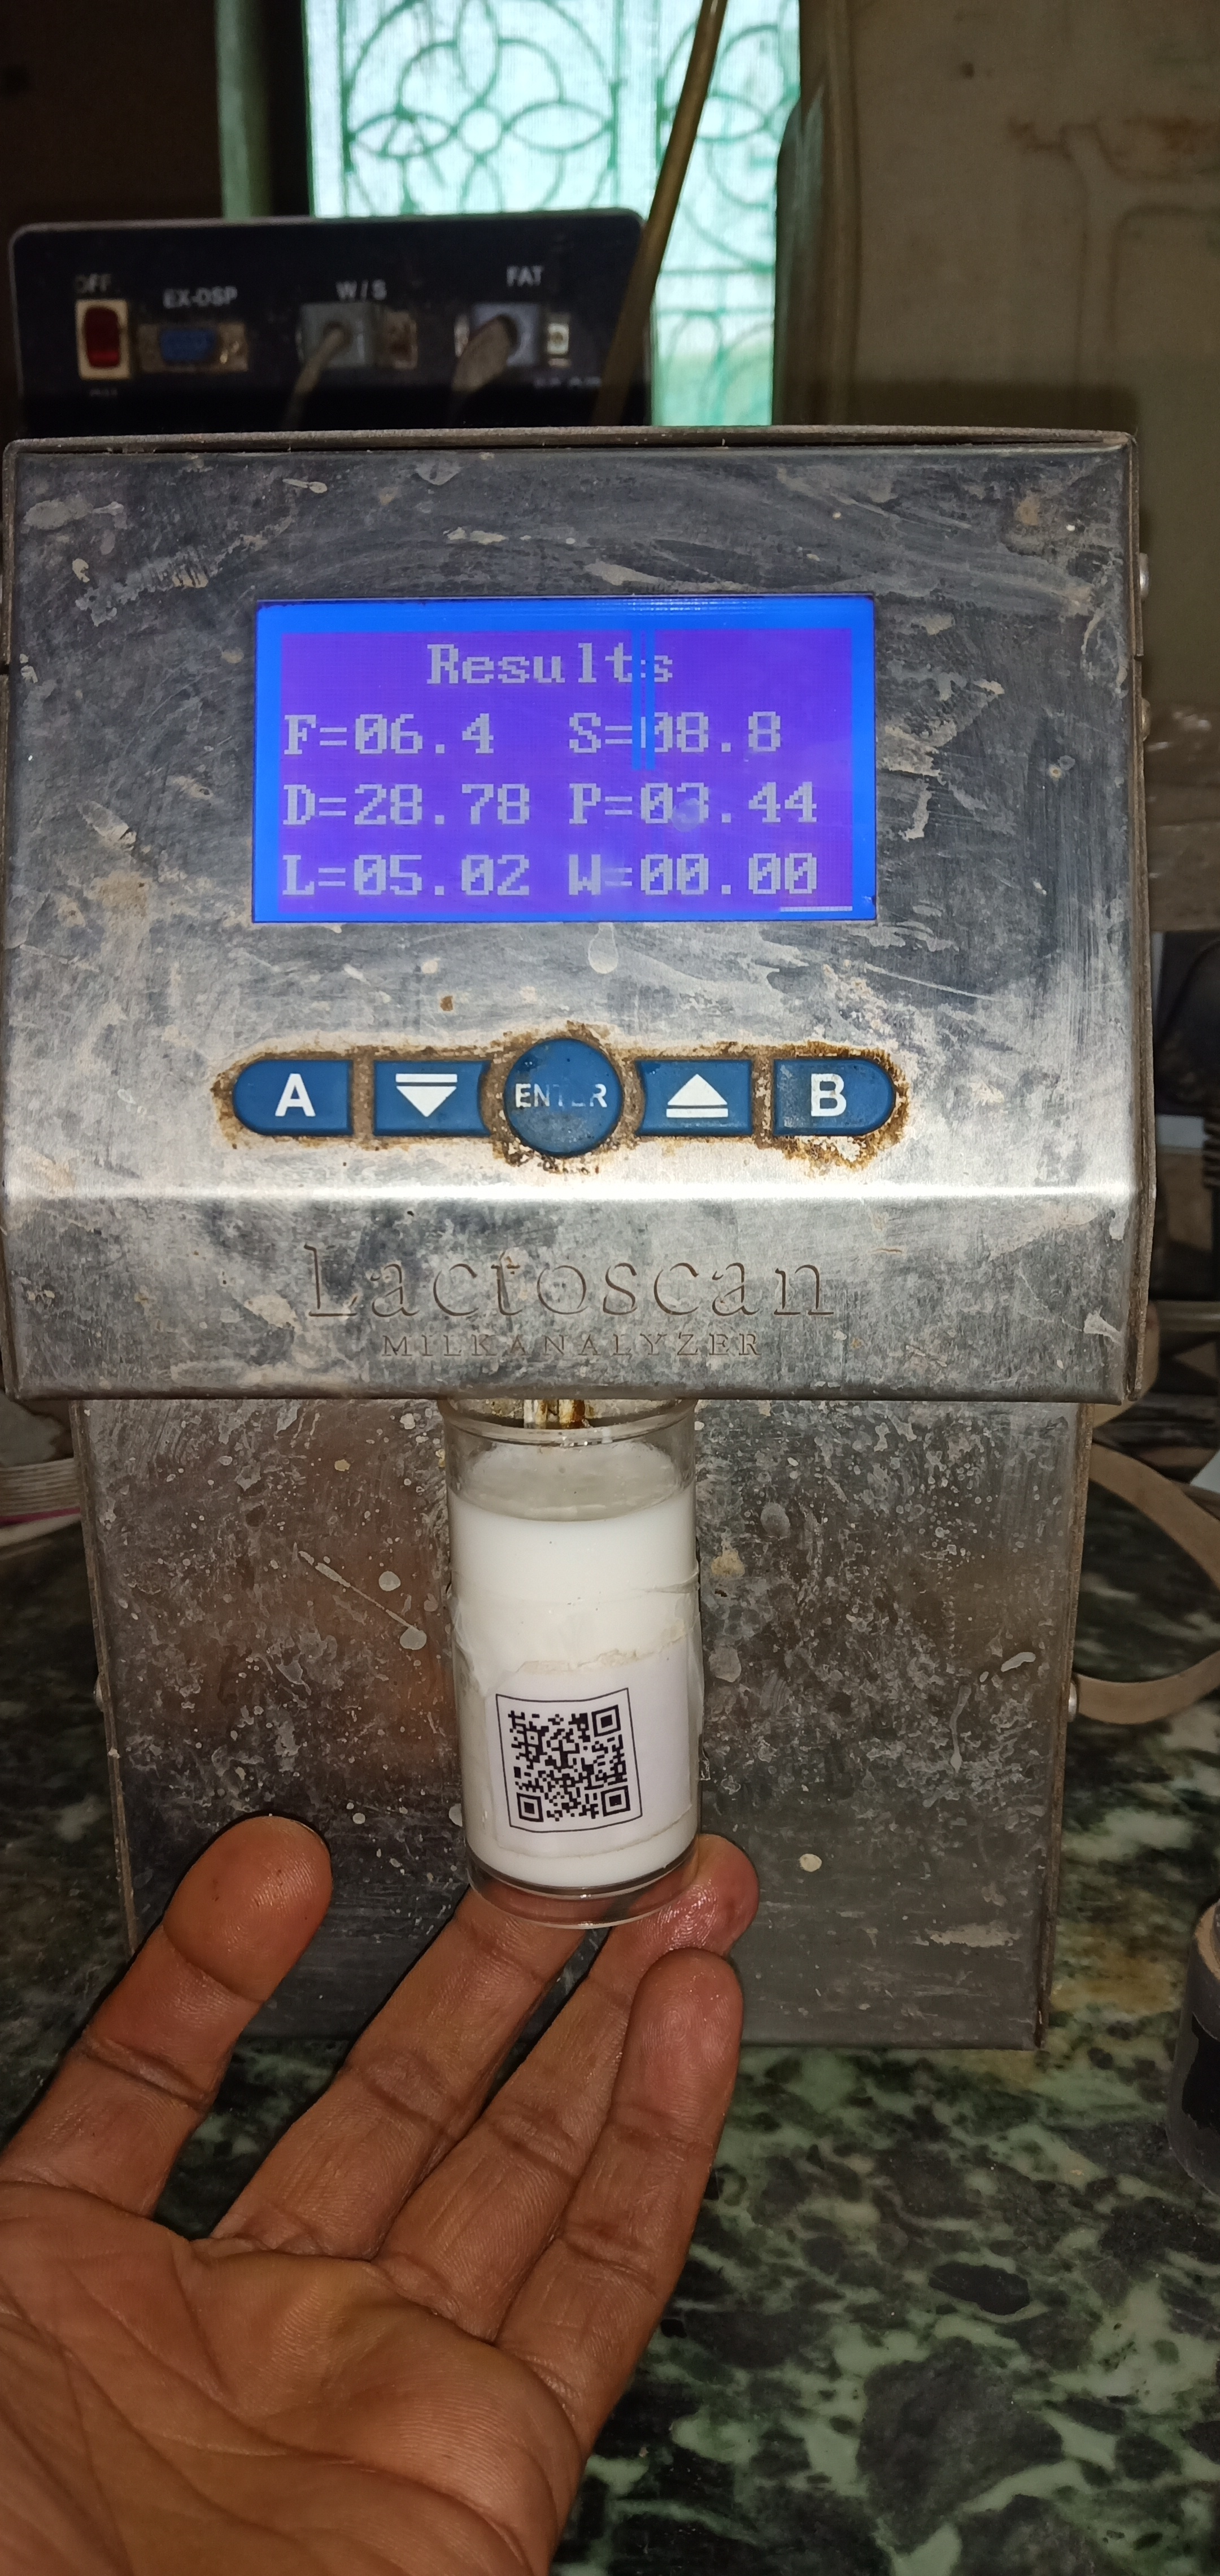lcd: (236, 582, 901, 953)
qr: (491, 1682, 635, 1845)
